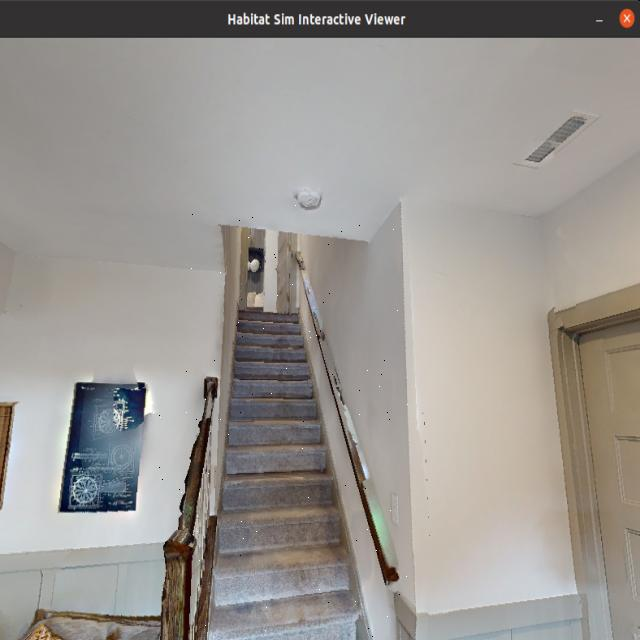stairs: (150, 205, 413, 640)
